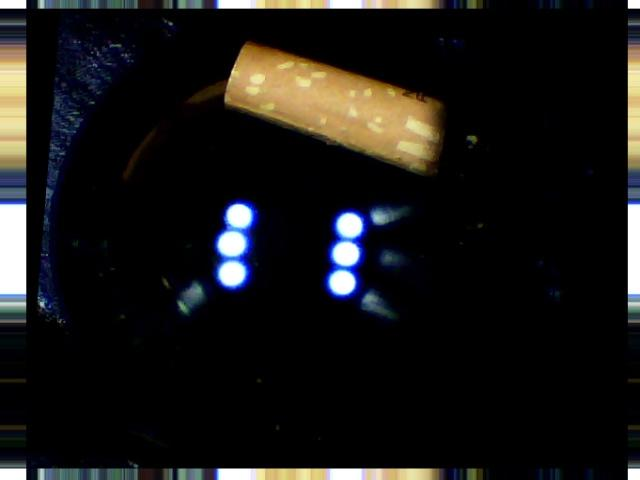megot: (208, 31, 473, 192)
